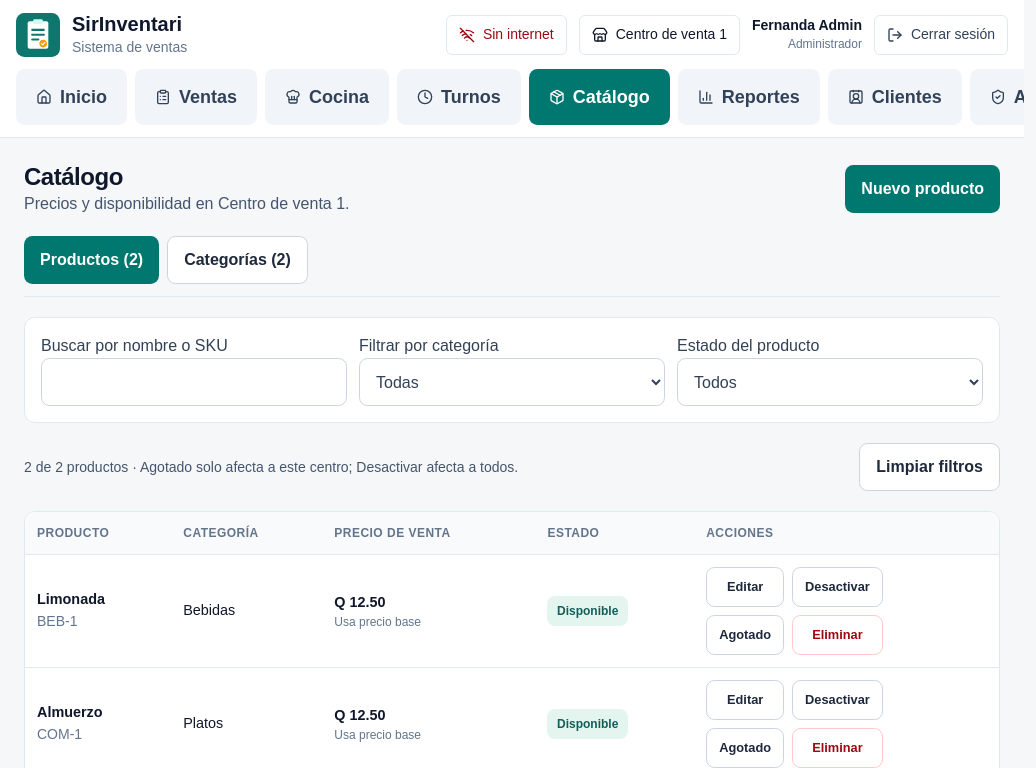
Test: Catálogo (Tarea 6) › busca por SKU y filtra por categoría
Expected: the text "Almuerzo" is shown, [37,704,103,720]
Type "beb-1" into the field labelled "Buscar por nombre o SKU" at (194, 382), box [41,358,347,406]
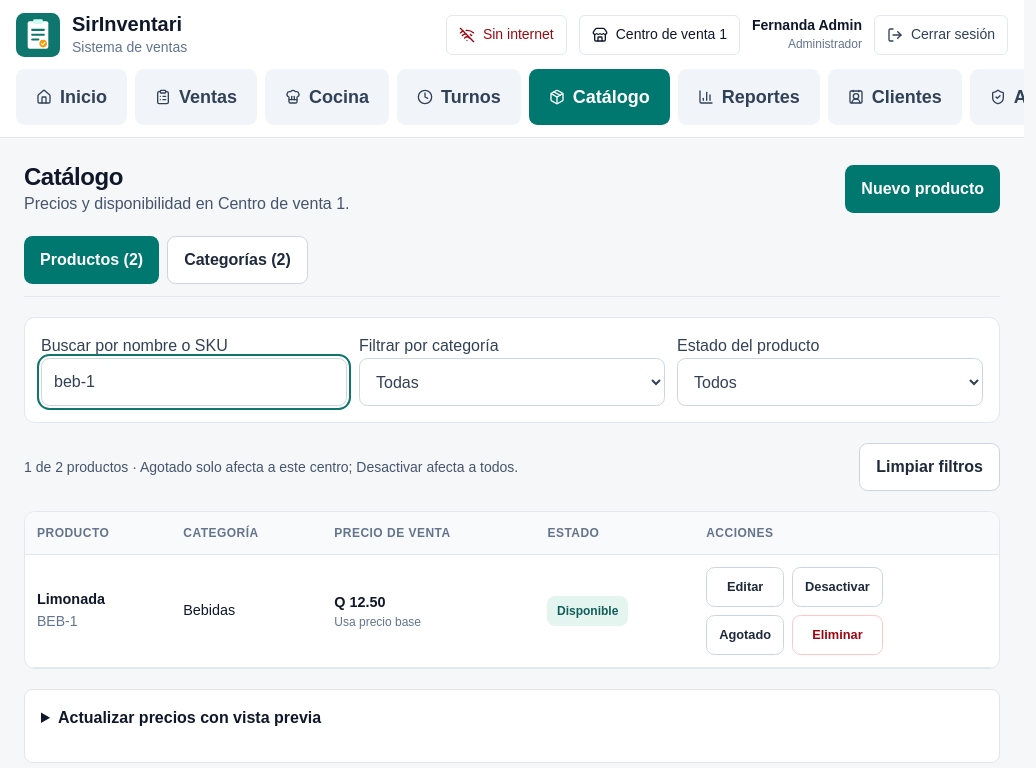
Expected: the text "Limonada" is shown, [37,591,105,607]
Result: the text "Almuerzo" is gone
Select "Platos" in the dropdown labelled "Filtrar por categoría" at (512, 382), box [359,358,665,406]
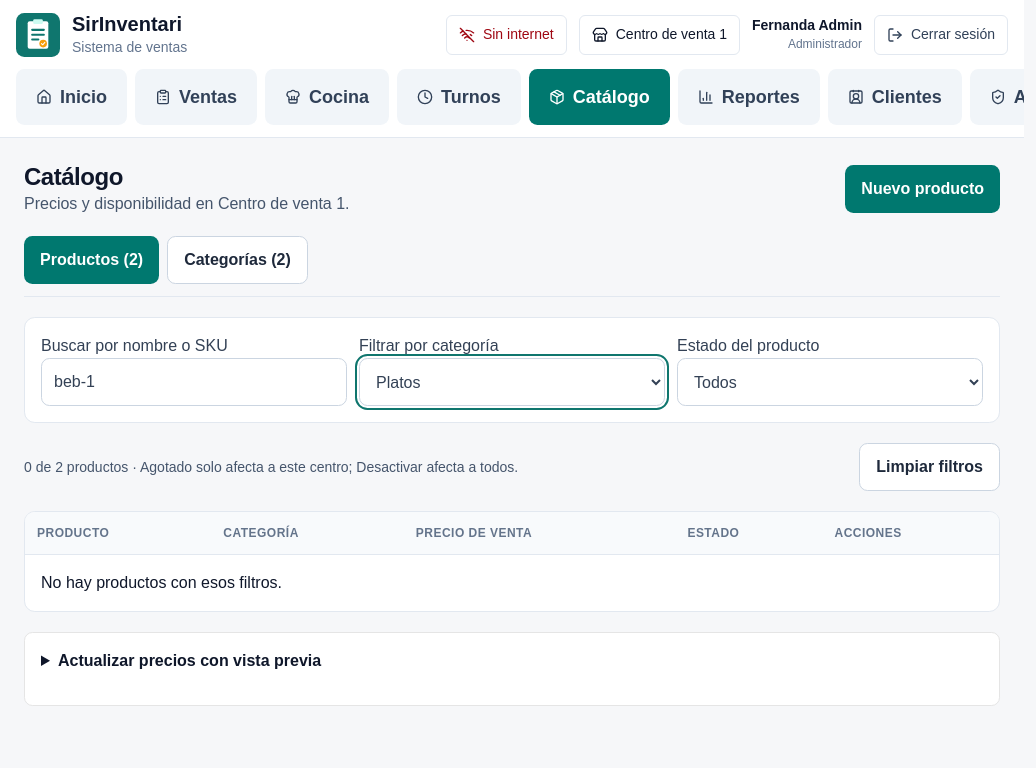
Result: the text "No hay productos con esos filtros." is shown at [41,574,282,591]
